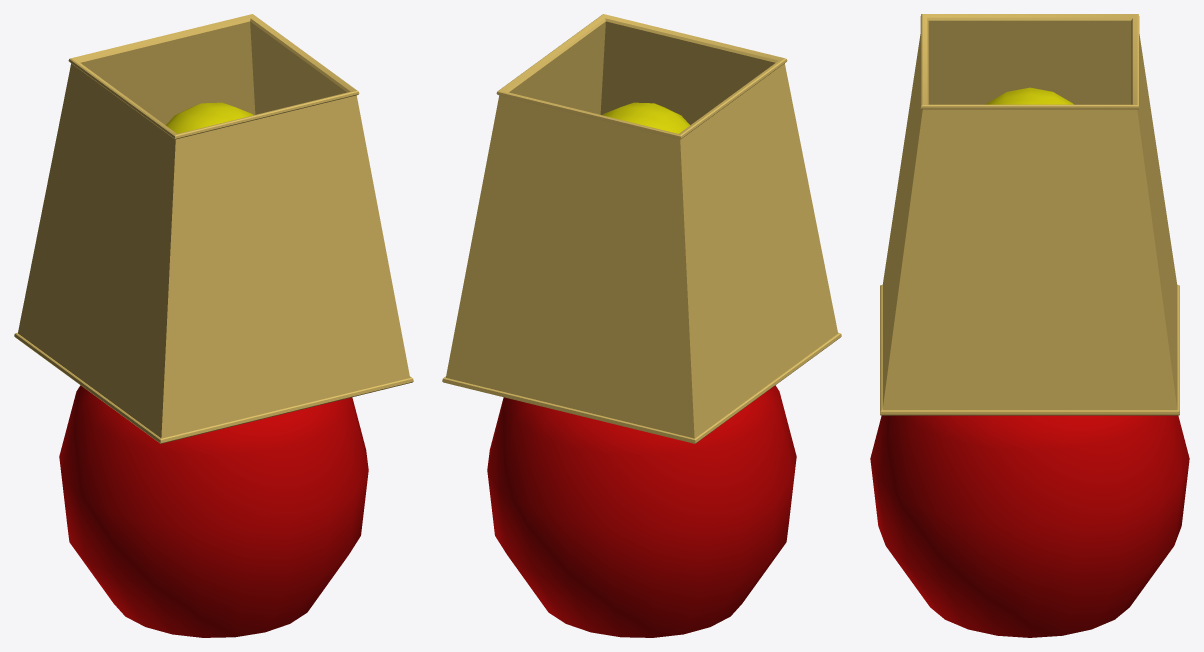
The model's file is Lamp.fbx.
3 renders of one model, left to right at view 1: azimuth 30°, elevation 25°; view 2: azimuth 150°, elevation 25°; view 3: azimuth 270°, elevation 25°, orthographic. The views are drawn at different scales.
Parts seen in each view (by area): view 1: Lamp; view 2: Lamp; view 3: Lamp.
Boxes of the visible parts, left/top/right/bottom form: Lamp: left=14, top=14, right=413, bottom=637; Lamp: left=442, top=14, right=841, bottom=637; Lamp: left=870, top=14, right=1189, bottom=637.
Size of the model in its own units: 22.03 by 40.65 by 22.03.
